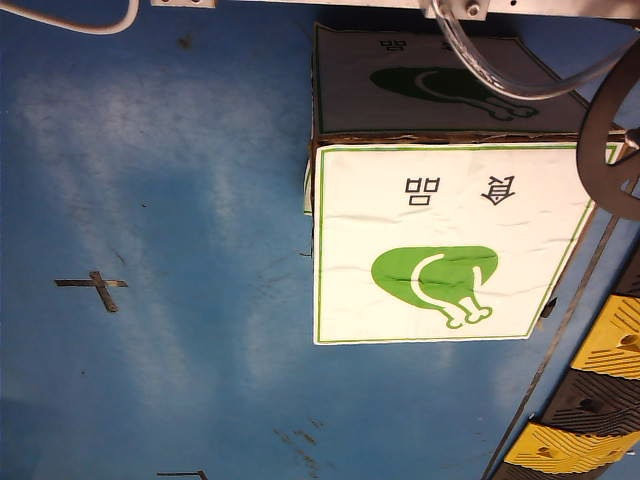Cube_food: (342, 151, 533, 338)
